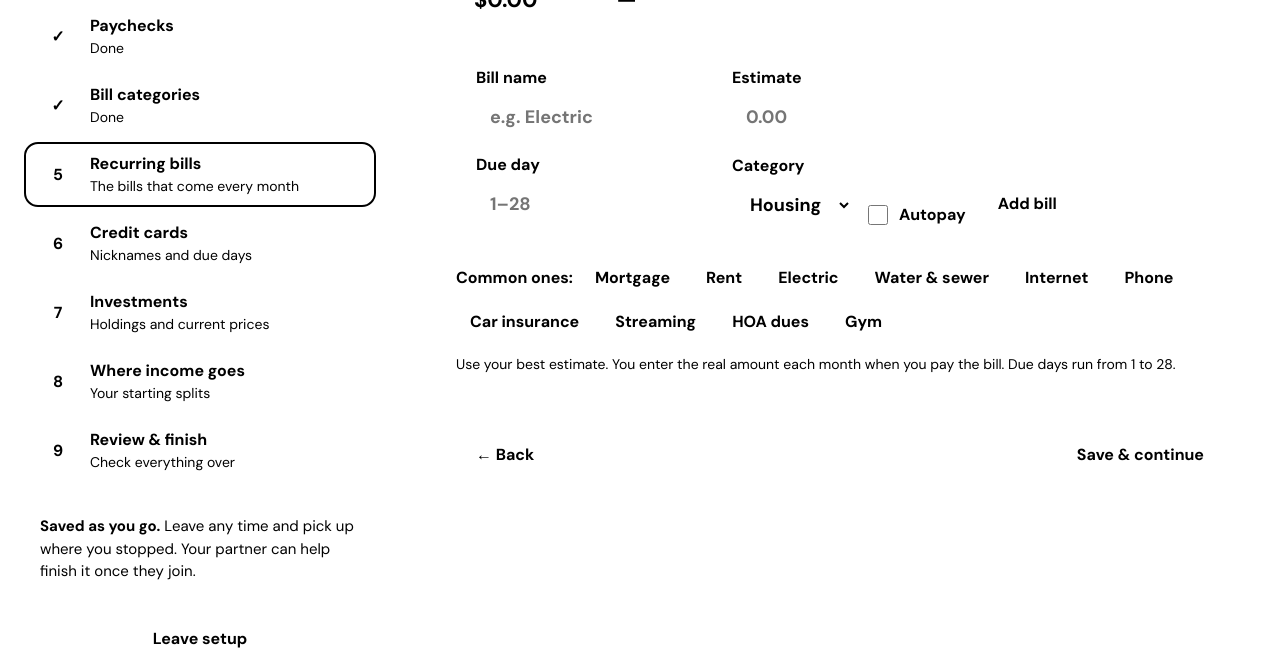
Test case: P1-12 setup step 5 in the wizard › Save & continue saves step 5 and moves on to step 6
The image size is (1280, 669).
(page scrolled)
expect the field labelled "Bill name" is shown: met, box [476,94,720,141]
Click the button "Save & continue" at (1140, 455), box [1057,431,1224,479]
(page scrolled)
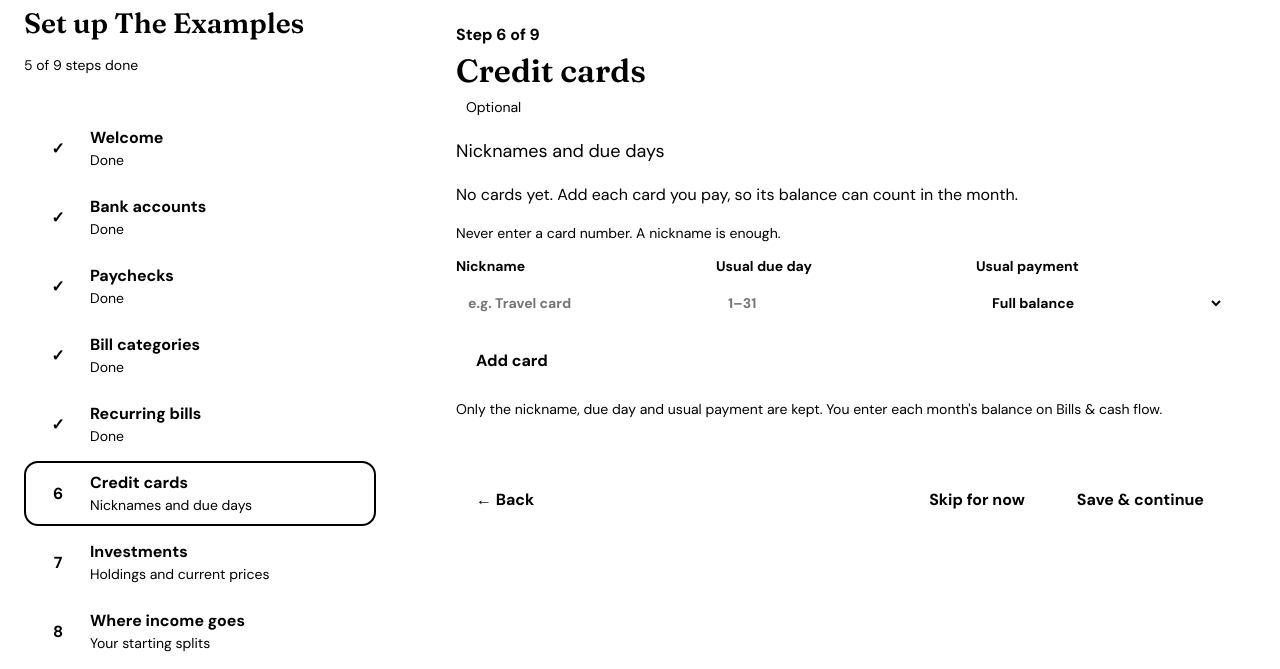
expect the text "Step 6 of 9" is shown: met, box [456,24,540,45]
